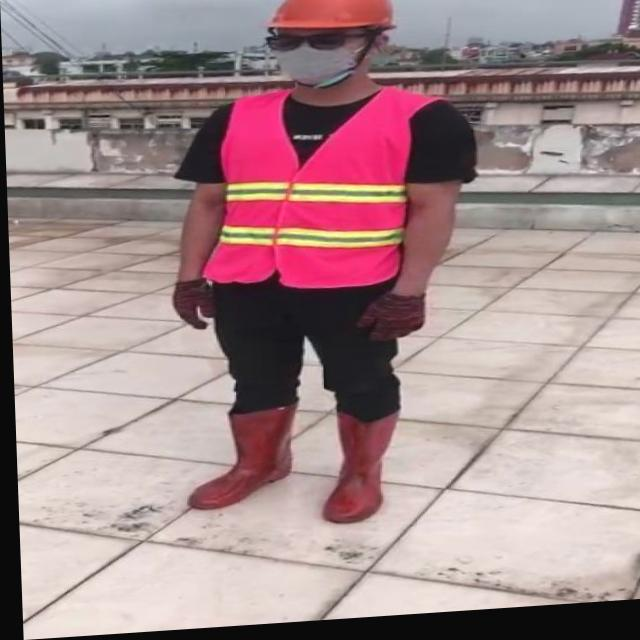Gloves: (353, 294, 425, 348), (170, 280, 214, 333)
Safety-Boot: (182, 403, 299, 513), (316, 408, 401, 528)
Safety-Vest: (182, 82, 459, 302)
